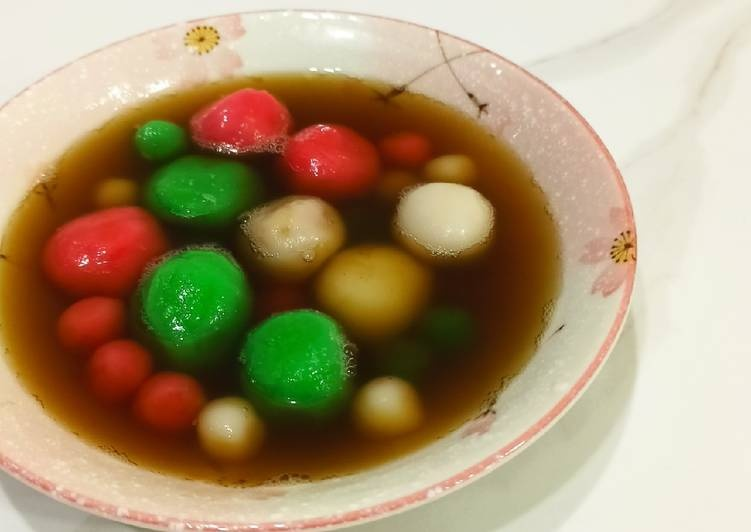ronde: (1, 74, 564, 482)
